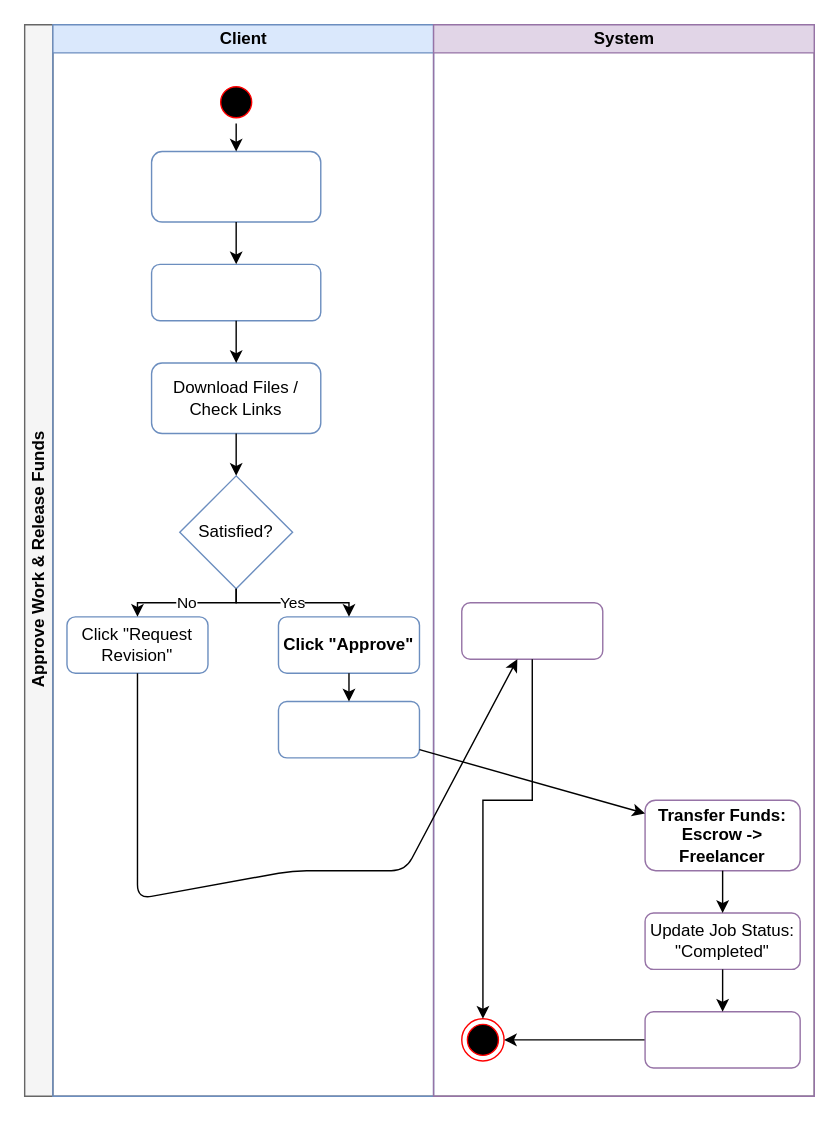
Some shapes in this 839 by 1121 pixel diagram are drawn without their labels. The shapes that lost their labels are listed below. From the top down, each one's centre as x and y in pixels, then its label:
the point at 235,186: Receive "Work Delivered" Notification
the point at 235,292: Open Job Dashboard
the point at 531,630: Notify Freelancer (Funds Locked)
the point at 348,729: Submit Rating (1-5 Stars)
the point at 722,1039: Notify Freelancer: "Payment Received"
